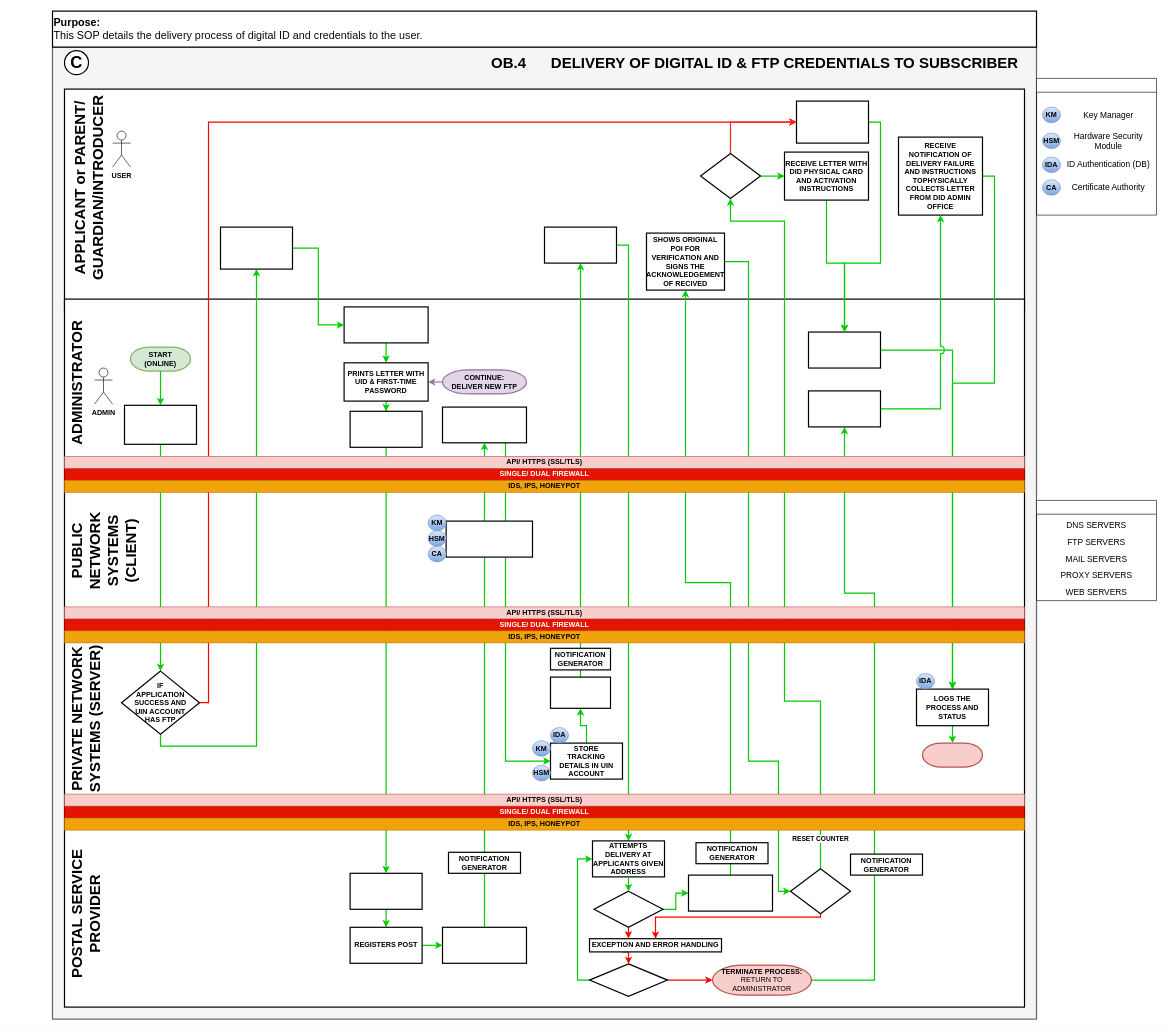
Image size: 1167x1030. Some labels were removed from this diagram. Here are the shapes that lost their labels. From the top down, the box of each, then its label:
(796, 100, 869, 143): RECEIVE NOTIFICATION OF REJECTED APPLICATION LETTER
(1036, 78, 1156, 215): LEGEND
(700, 153, 761, 199): IF APPLICATION SUCCESS
(220, 226, 293, 269): RECEIVE NOTIFICATION OF SUCCESSFUL APPLICATION ON EMAIL/PHONE
(544, 226, 617, 263): RECEIVE DID TRACKING DETAILS ON EMAIL AND PHONE
(343, 306, 428, 343): PRINTS PHYSICAL ID CARD WITH UID, PHOTO & ATTRIBUTES
(808, 331, 881, 368): RECEIVE NOTIFICATION OF DELIVEREDSTATUS
(124, 404, 197, 445): NOTIFIES ALL PARTIES OF APPLICATION STATUS
(442, 406, 527, 443): RECEIVE TRACKING NUMBER AND STORES
(808, 390, 881, 427): RECEIVE RETURNED LETTER
(349, 410, 422, 448): SENDS PHYSICAL COPY OF DID & A/C DETAILS VIA POST
(445, 520, 533, 557): MASKING & ENCRYPT TRACKING NUMBER
(1036, 500, 1156, 601): PUBLIC NETWORK
(550, 676, 611, 709): NOTIFY USER OF TRACKING DETAILS
(922, 742, 983, 767): END
(349, 872, 422, 910): RECEIVE SEALED LETTER FROM ADMINISTRATOR
(593, 890, 663, 928): IF SUBSCRIBER PRESENT
(688, 874, 773, 911): REQUESTS FOR PHYSICAL SIGNATURE AND ORIGINAL POI
(790, 868, 851, 914): IF POI AND NAME MATCH
(442, 926, 527, 964): GENERATES TRACKING NUMBER
(589, 963, 668, 997): IF ATTEMPT COUNT <=3
